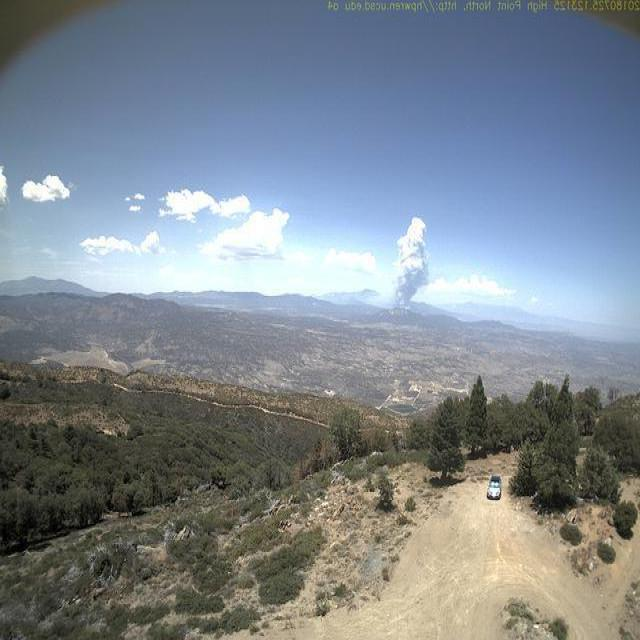Smoke: (384, 210, 434, 318)
